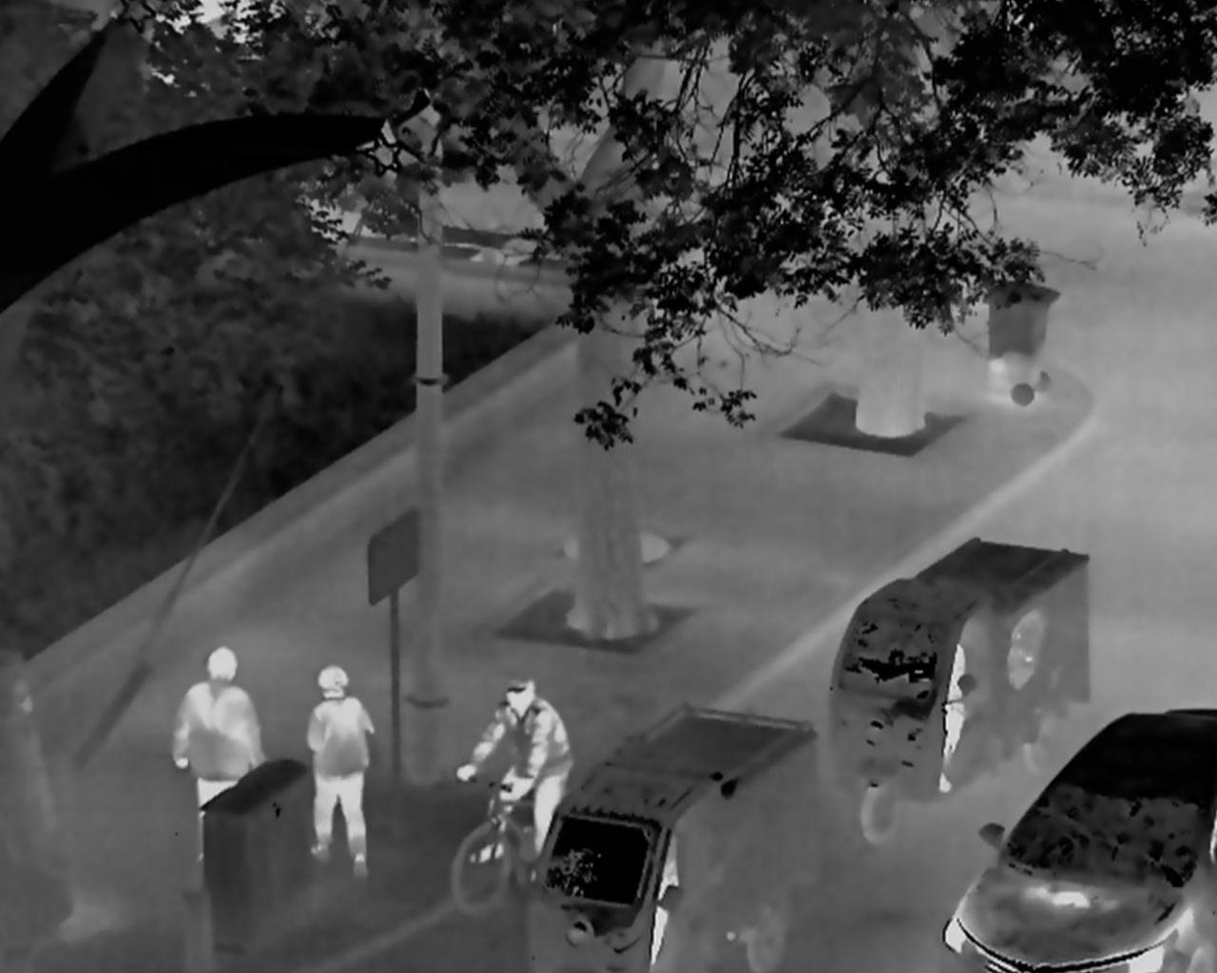person: (454, 675, 571, 880), (170, 644, 267, 863), (306, 665, 376, 878), (936, 642, 966, 792), (651, 830, 679, 966)
